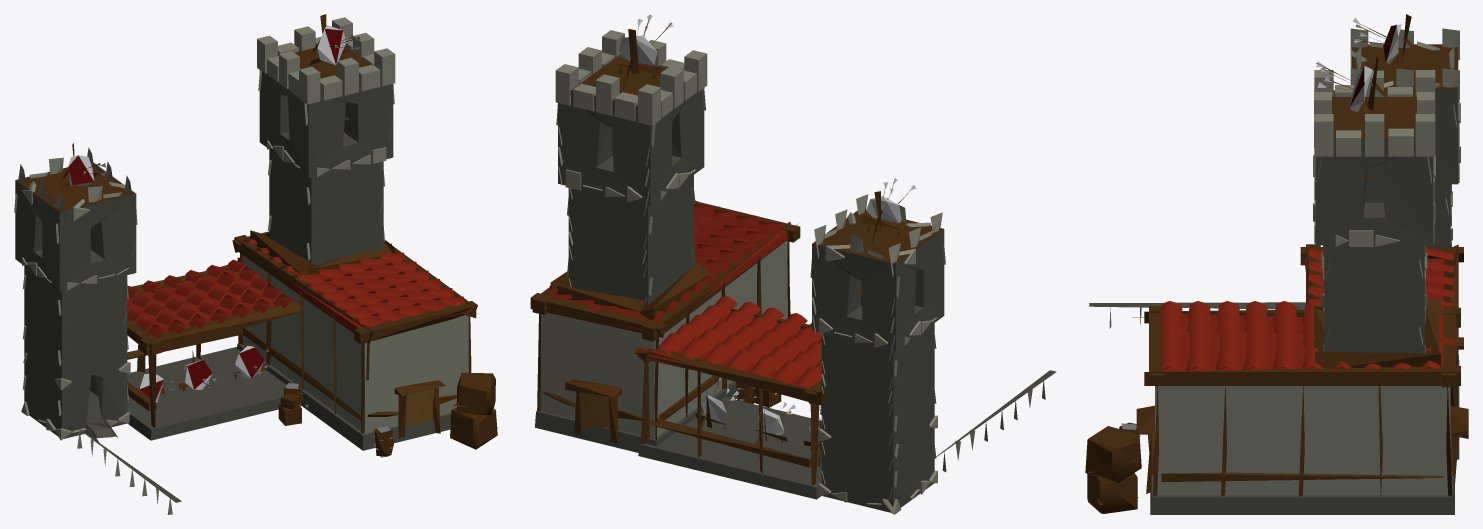
The model's file is Archery_SecondAge_Level3.fbx.
3 renders of one model, left to right at view 1: azimuth 30°, elevation 25°; view 2: azimuth 150°, elevation 25°; view 3: azimuth 270°, elevation 25°, orthographic. The views are drawn at different scales.
Parts seen in each view (by area): view 1: High_Archery_SecondAge_Level3; view 2: High_Archery_SecondAge_Level3; view 3: High_Archery_SecondAge_Level3, Low_Archery_SecondAge_Level3.
Boxes of the visible parts, box(x1,y1,x2,y2) form: High_Archery_SecondAge_Level3: box(14, 14, 497, 514); High_Archery_SecondAge_Level3: box(530, 14, 1056, 514); High_Archery_SecondAge_Level3: box(1085, 14, 1468, 514); Low_Archery_SecondAge_Level3: box(1087, 24, 1460, 505).
Size of the model in its own units: 195 by 194 by 159.
